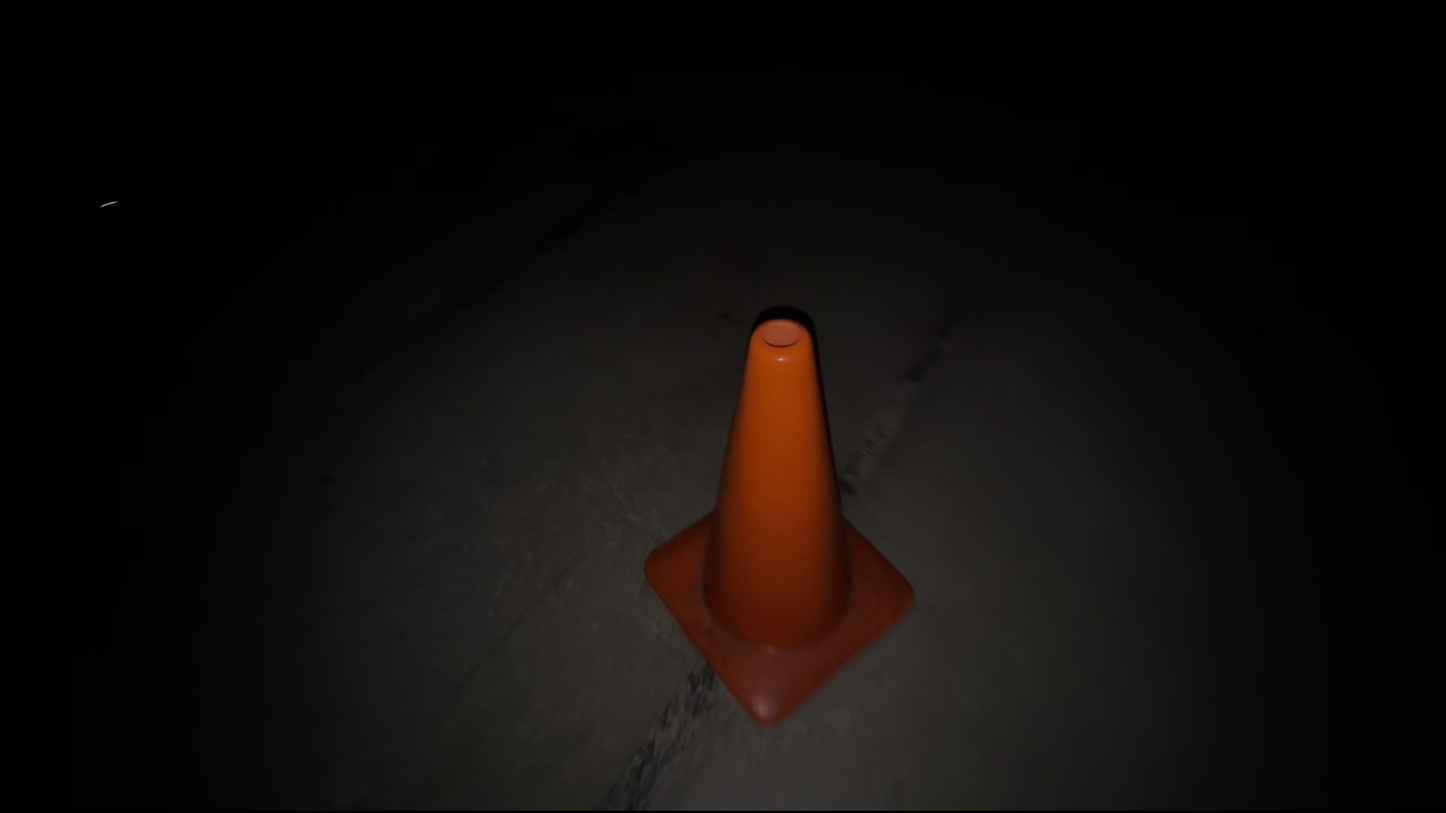traffic_cone: (642, 311, 916, 725)
